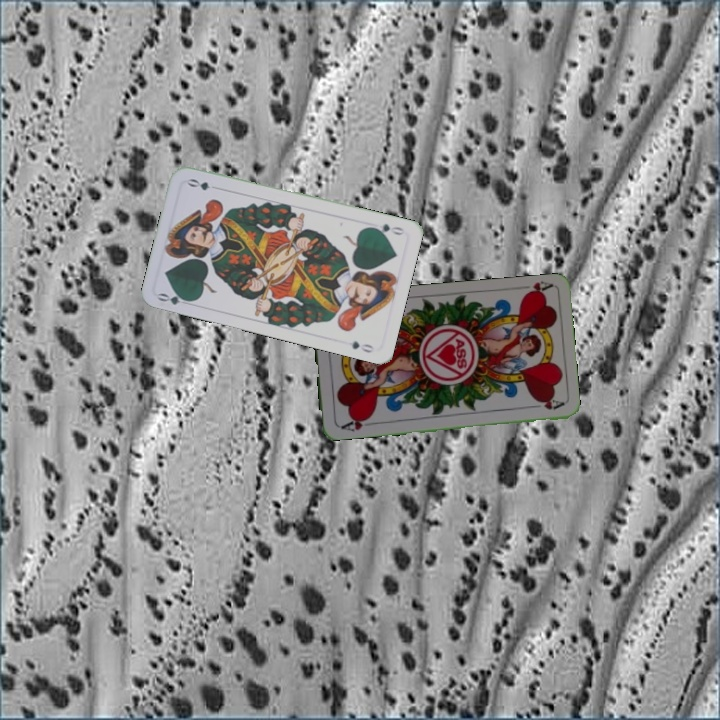GO: (154, 288, 195, 308), (366, 219, 407, 238)
HA: (514, 277, 554, 299), (337, 413, 373, 434)
